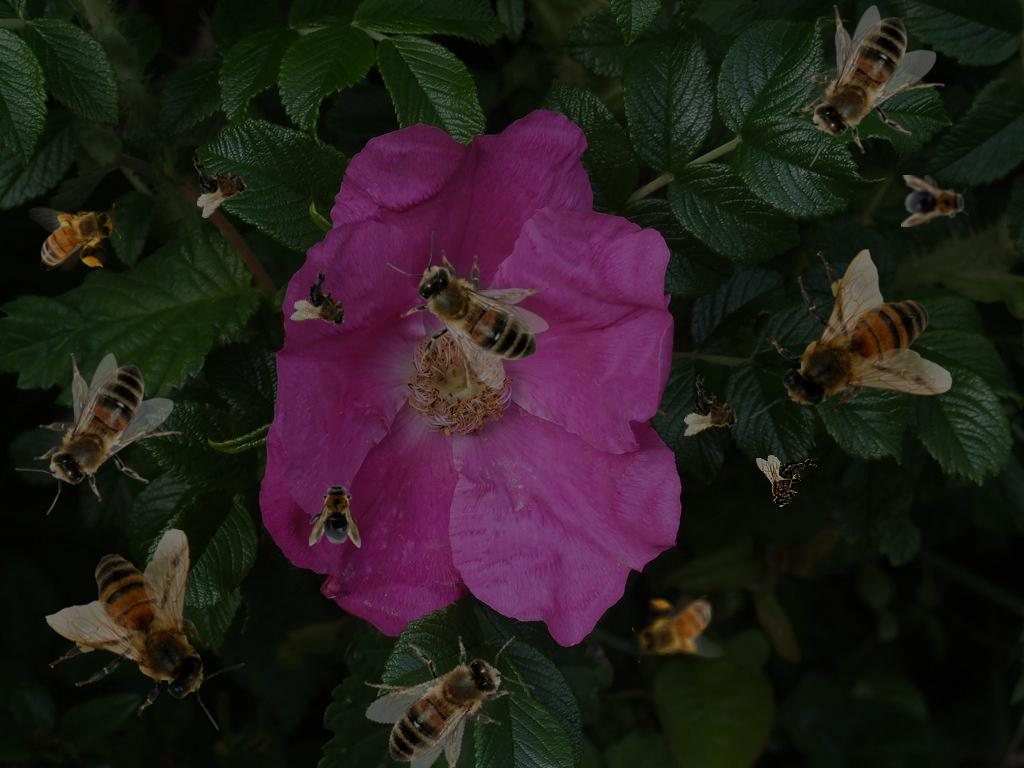Bee: (42, 525, 249, 737), (749, 249, 953, 448), (344, 603, 547, 768), (778, 5, 945, 167), (15, 353, 182, 515), (387, 231, 549, 398), (286, 263, 365, 345), (28, 203, 121, 271), (632, 595, 725, 663), (681, 374, 746, 446), (189, 148, 252, 220), (309, 480, 361, 548), (901, 175, 969, 227), (756, 455, 818, 508)
